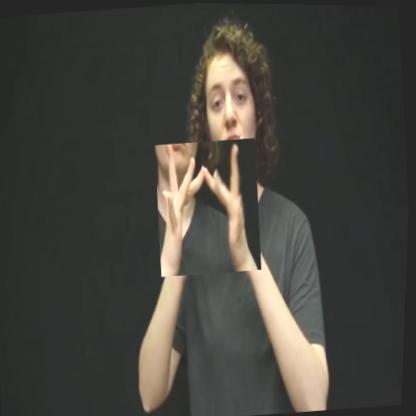Internet: (152, 137, 268, 278)
